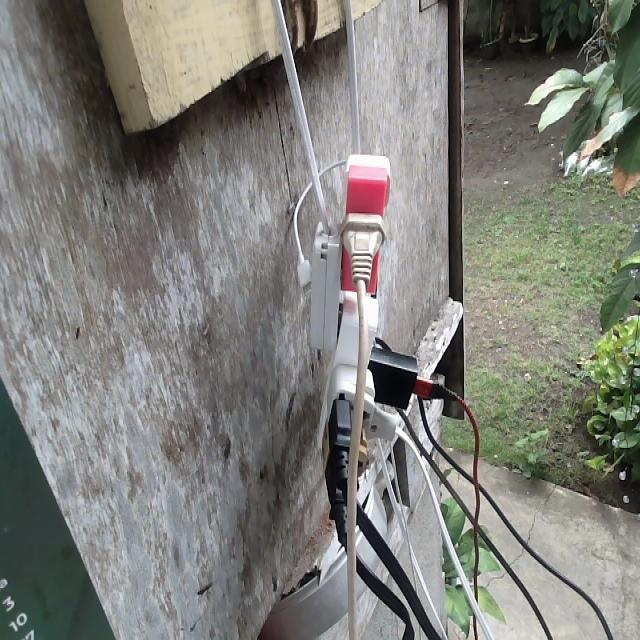-: (303, 152, 420, 521)
